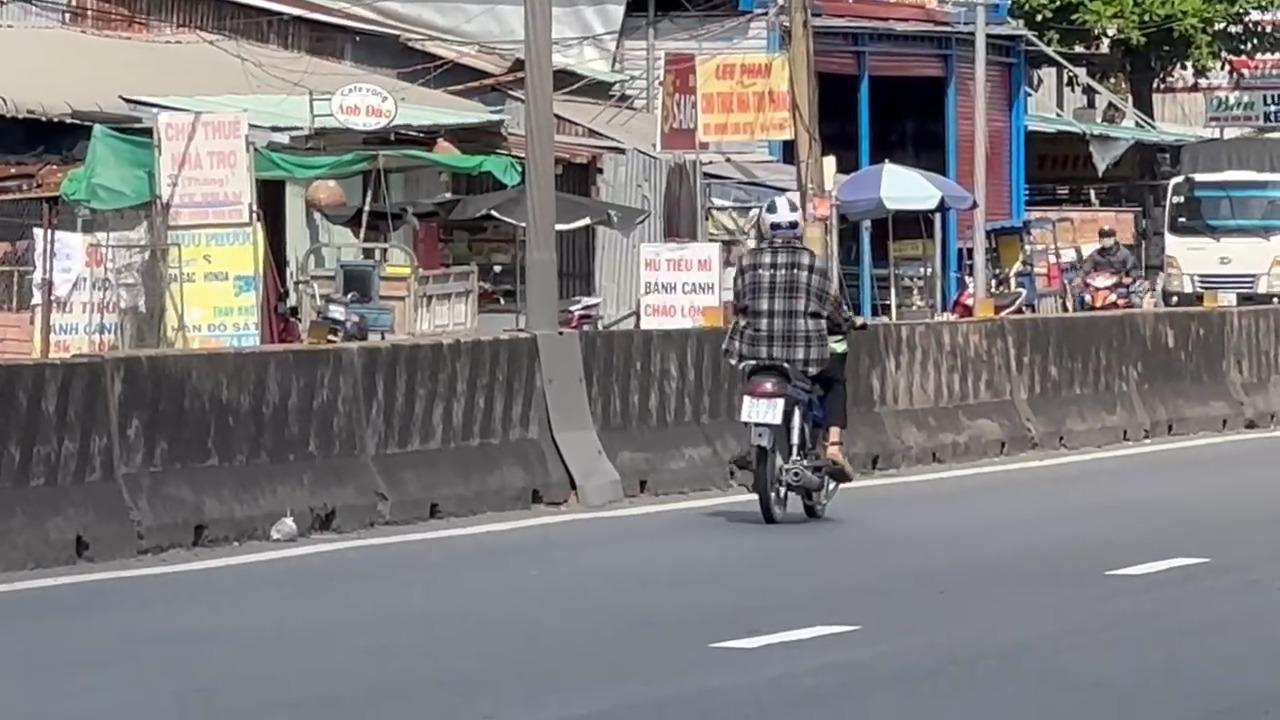bien_so: (738, 393, 785, 425)
